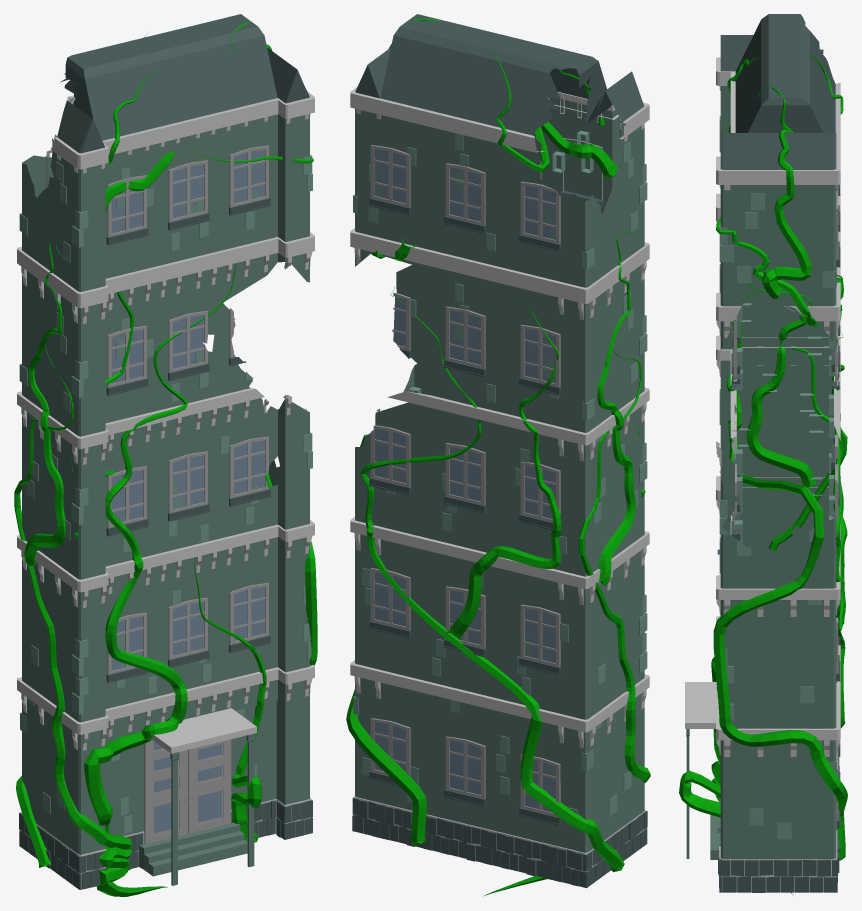
The model's file is quat-roof.glb.
The picture shows the model from 3 angles, left to right: view 1: azimuth 30°, elevation 25°; view 2: azimuth 150°, elevation 25°; view 3: azimuth 270°, elevation 25°; orthographic projection. The views are drawn at different scales.
Parts seen in each view (by area): view 1: Building, VinesCurves.001, Roof; view 2: Building, VinesCurves.001, Roof; view 3: Building, VinesCurves.001, Roof.
Boxes of the visible parts, left/top/right/bottom form: Building: left=17, top=91, right=314, bottom=889; VinesCurves.001: left=14, top=22, right=317, bottom=896; Roof: left=55, top=14, right=309, bottom=153; Building: left=350, top=87, right=649, bottom=888; VinesCurves.001: left=346, top=18, right=650, bottom=896; Roof: left=355, top=14, right=643, bottom=136; Building: left=685, top=57, right=840, bottom=892; VinesCurves.001: left=679, top=52, right=847, bottom=894; Roof: left=720, top=14, right=836, bottom=169.
Size of what is drawn, in the model's own units: 40.72 by 131 by 23.84.
